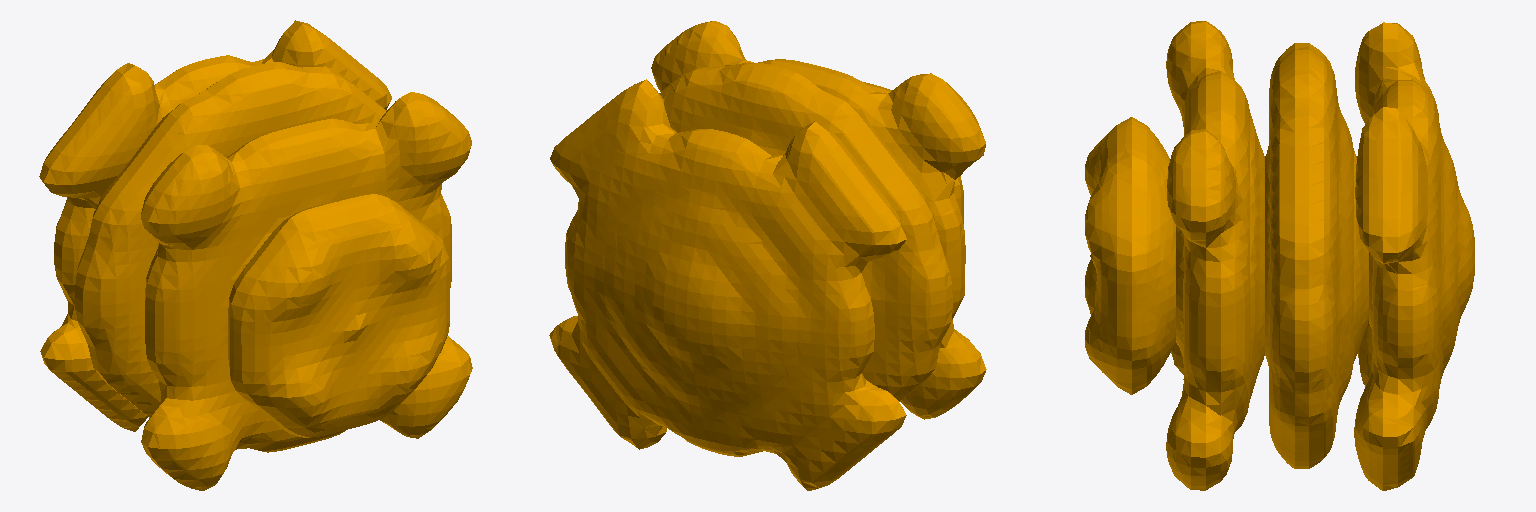
robot.urdf — L14_1:
<?xml version="1.0"?>
<robot name="L14_1">
  <link name="base_link">
    <inertial>
      <mass value="0.07449" />
      <origin xyz="0 0 0" />
      <inertia  ixx="0.0002" ixy="0.0"  ixz="0.0"  iyy="0.0002"  iyz="0.0" izz="0.0002" />
    </inertial>
    <visual>
      <geometry>
        <mesh filename="../../../meshes/egad/train/L14_1.obj" />
      </geometry>
    </visual>
    <collision>
      <geometry>
        <mesh filename="../../../meshes/egad/train/L14_1.obj" />
      </geometry>
    </collision>
  </link>
</robot>

--- Facts derived from the render (not from the file) ---
The picture shows the robot from 3 angles, left to right: view 1: azimuth 30°, elevation 25°; view 2: azimuth 150°, elevation 25°; view 3: azimuth 270°, elevation 25°; orthographic projection.
Model L14_1 with 1 links and 0 joints (none), rooted at base_link, posed every joint at zero.
Links seen in each view (by area): view 1: base_link; view 2: base_link; view 3: base_link.
Boxes of the visible links, left/top/right/bottom form: base_link: left=39, top=20, right=472, bottom=490; base_link: left=549, top=21, right=986, bottom=490; base_link: left=1085, top=21, right=1474, bottom=490.
Size in the robot's own frame: 0.0666 by 0.06 by 0.0665 metres.
Meshes: 1 distinct files referenced, 1 mesh visuals loaded (1 OBJ).